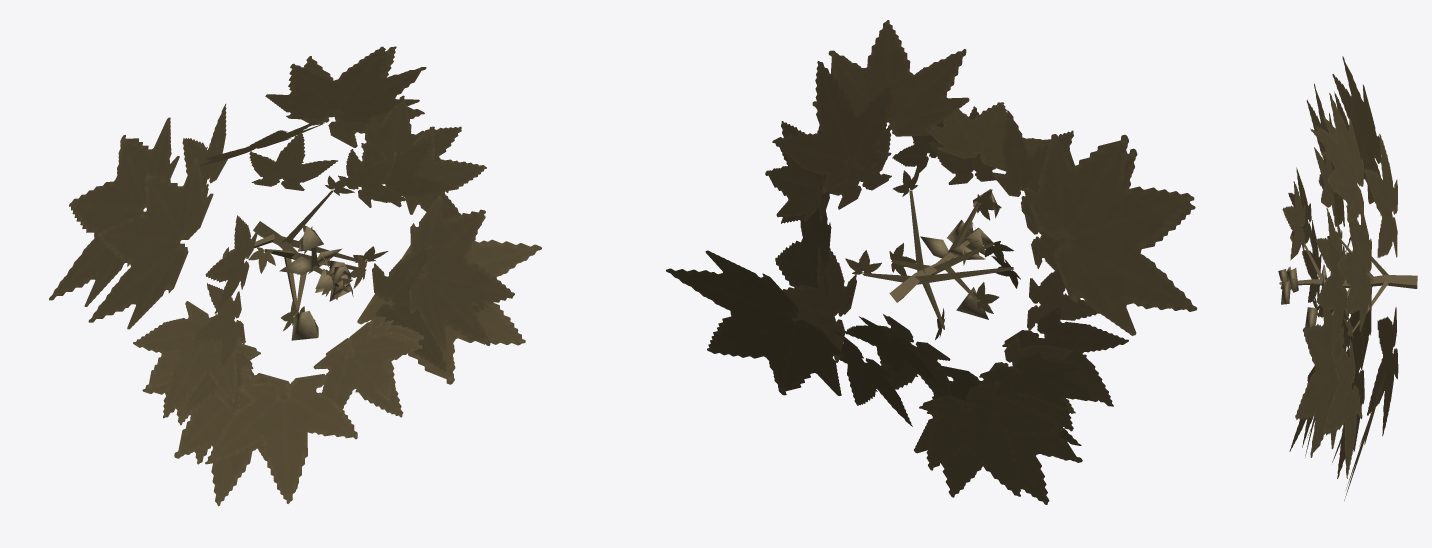
Rendered from p_male_kush_preflower_c4_cards.obj.
3 views of the same model, side by side, from view 1: azimuth 30°, elevation 25°; view 2: azimuth 150°, elevation 25°; view 3: azimuth 270°, elevation 25° (orthographic). The views are drawn at different scales.
Bounding box in the file's own units: 1.63 × 1.31 × 0.373.
Materials: 1 (1 with a texture image).
